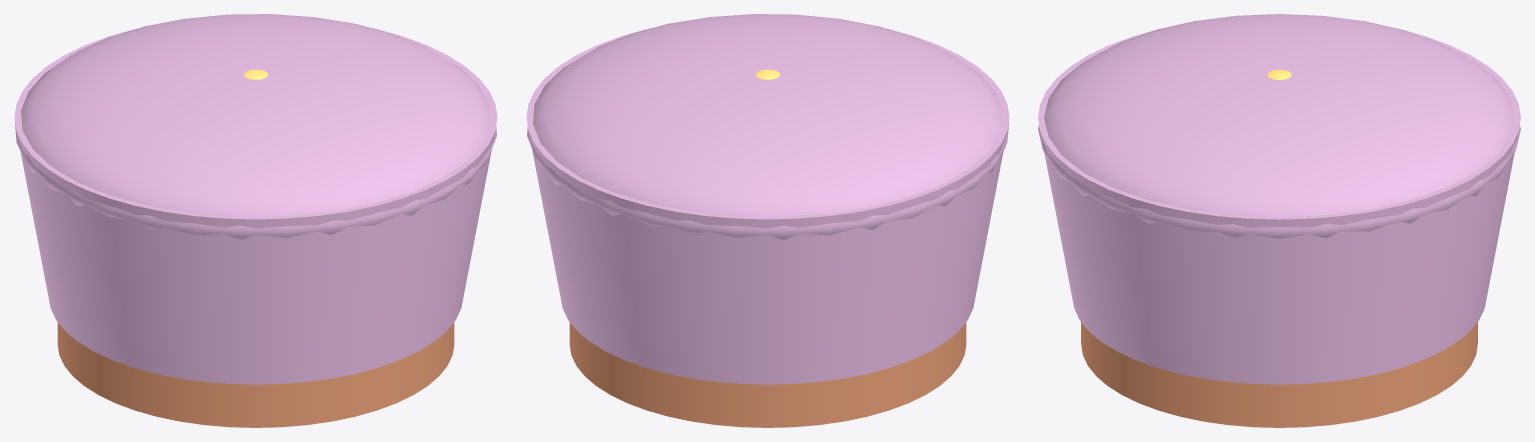
The model's file is plum_pouf.glb.
3 renders of one model, left to right at view 1: azimuth 30°, elevation 25°; view 2: azimuth 150°, elevation 25°; view 3: azimuth 270°, elevation 25°, orthographic.
Parts seen in each view (by area): view 1: plum_pouf; view 2: plum_pouf; view 3: plum_pouf.
Part boxes in pixels (x1,y1,x2,y2): plum_pouf: [14, 14, 497, 427]; plum_pouf: [526, 14, 1009, 427]; plum_pouf: [1038, 14, 1520, 427].
Bounding box in the file's own units: 0.56 × 0.347 × 0.56.
